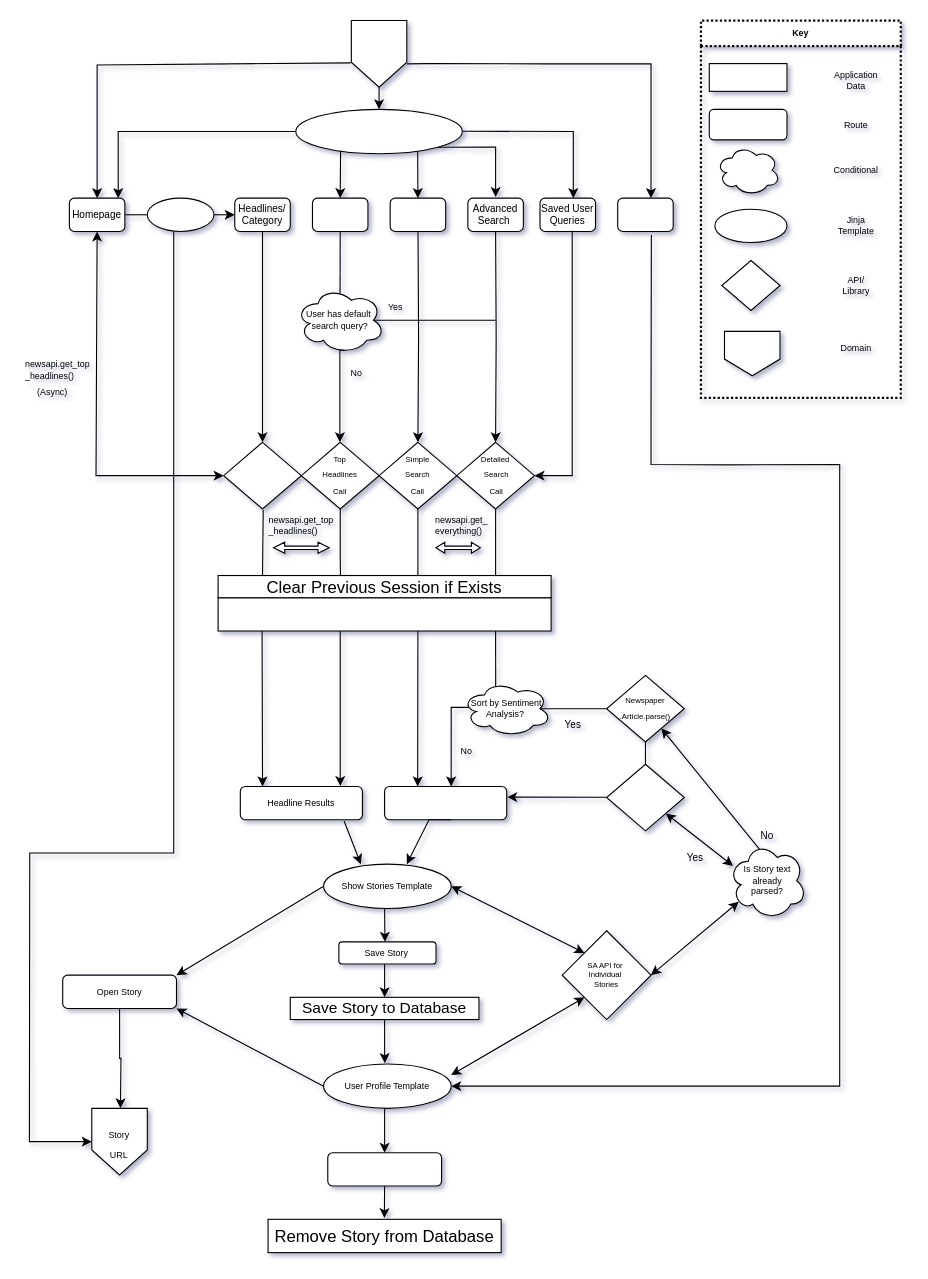
The diagram is 928 pixels wide and 1279 high, and some of its shapes have lost their labels. Each missing label, with the centre of its shape:
Base/Navbar Template: the point at 378,131
Category Call: the point at 262,475
Headlines: the point at 339,214
Homepage Template: the point at 180,214
News Tracker: the point at 378,53
Polarize() or Subjectize(): the point at 645,797
Remove Story: the point at 384,1169
Save API Results to Server-Side Session: the point at 384,614
Search Results: the point at 445,802
Simple Search: the point at 417,214
User Saved Stories: the point at 645,214
